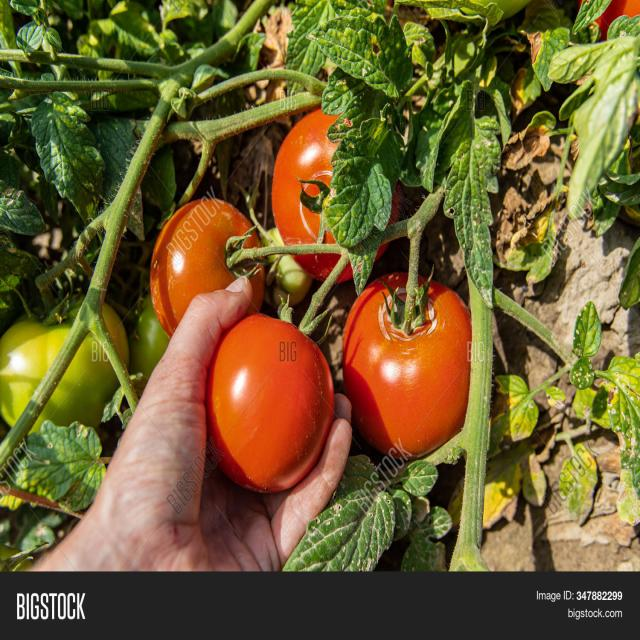kirmizi: (343, 228, 489, 464), (211, 307, 347, 499), (136, 166, 298, 322)
